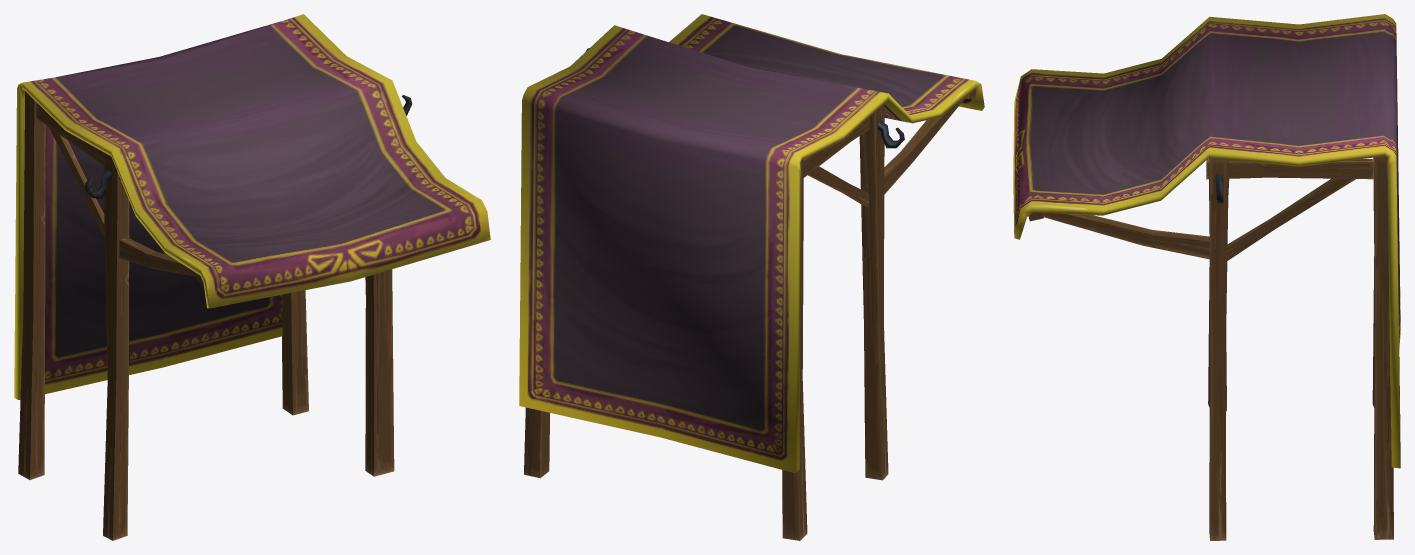
File: SM_PROP_marketstall_city_04.fbx
The picture shows the model from 3 angles, left to right: view 1: azimuth 30°, elevation 25°; view 2: azimuth 150°, elevation 25°; view 3: azimuth 270°, elevation 25°; orthographic projection. The views are drawn at different scales.
Visible parts, largest first — view 1: SM_PROP_marketstall_city_04; view 2: SM_PROP_marketstall_city_04; view 3: SM_PROP_marketstall_city_04.
Boxes of the visible parts, x1=… form: SM_PROP_marketstall_city_04: x1=14, y1=14, x2=490, y2=540; SM_PROP_marketstall_city_04: x1=519, y1=14, x2=984, y2=540; SM_PROP_marketstall_city_04: x1=1013, y1=14, x2=1400, y2=540.
Size of the model in its own units: 254 by 293 by 264.
